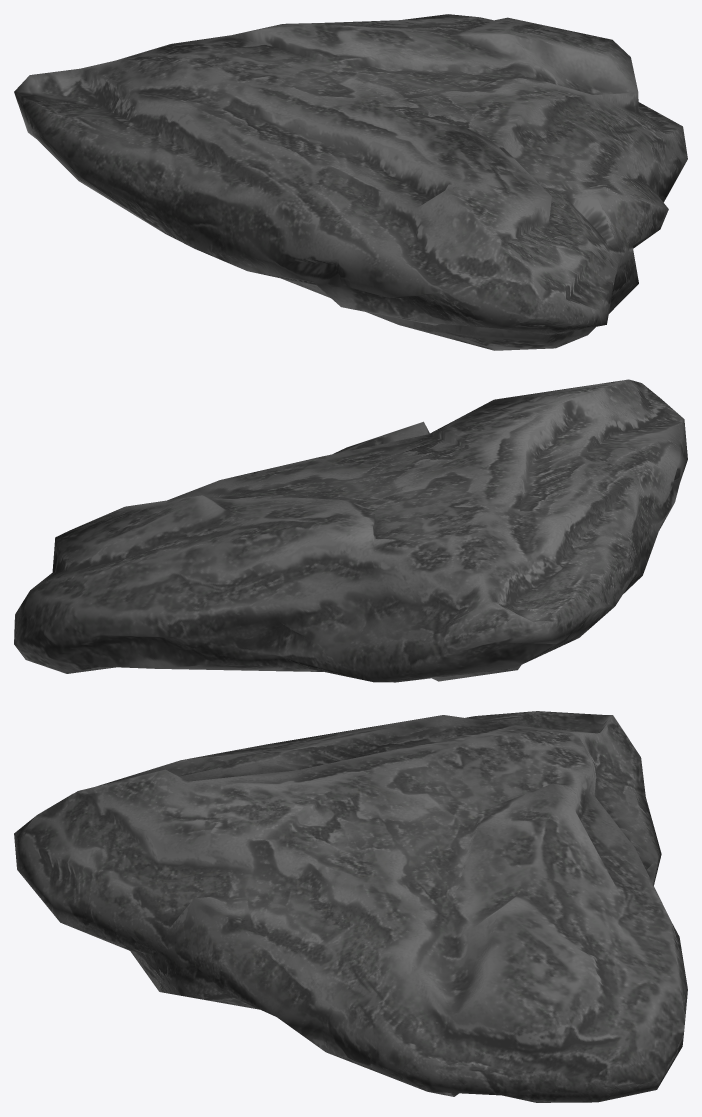
Rendered from Rock_04.fbx.
3 renders of one model, top to bottom at view 1: azimuth 30°, elevation 25°; view 2: azimuth 150°, elevation 25°; view 3: azimuth 270°, elevation 25°, orthographic. The views are drawn at different scales.
Parts seen in each view (by area): view 1: Rock_04; view 2: Rock_04; view 3: Rock_04.
Boxes of the visible parts, bbox=[...] form: Rock_04: bbox=[14, 14, 687, 350]; Rock_04: bbox=[14, 379, 687, 682]; Rock_04: bbox=[14, 711, 687, 1102].
Size of the model in its own units: 2.25 by 0.7281 by 2.43.
